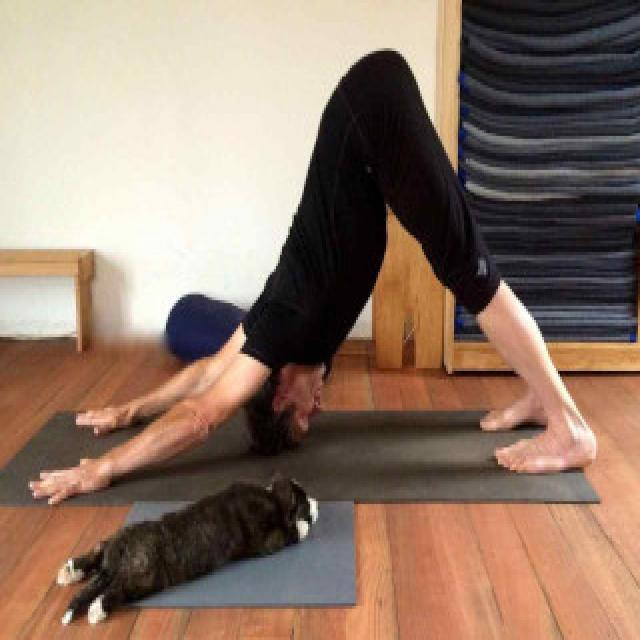yoga-pose downward: (77, 48, 606, 490)
